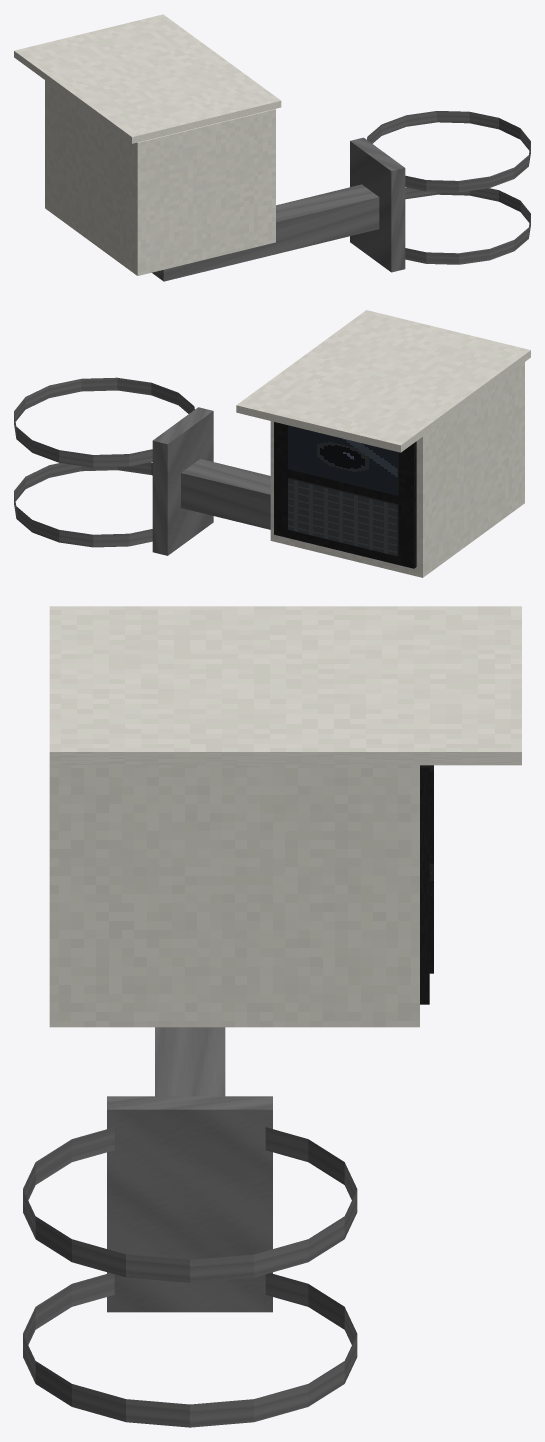
File: speed_camera_side_right_thin.obj
3 renders of one model, top to bottom at view 1: azimuth 30°, elevation 25°; view 2: azimuth 150°, elevation 25°; view 3: azimuth 270°, elevation 25°, orthographic. The views are drawn at different scales.
Parts seen in each view (by area): view 1: speed_camera_side_right_thin; view 2: speed_camera_side_right_thin; view 3: speed_camera_side_right_thin.
Boxes of the visible parts, x1=… form: speed_camera_side_right_thin: x1=14, y1=14, x2=530, y2=281; speed_camera_side_right_thin: x1=14, y1=310, x2=530, y2=577; speed_camera_side_right_thin: x1=23, y1=606, x2=521, y2=1427.
Bounding box in the file's own units: 1.53 × 0.735 × 0.782.
